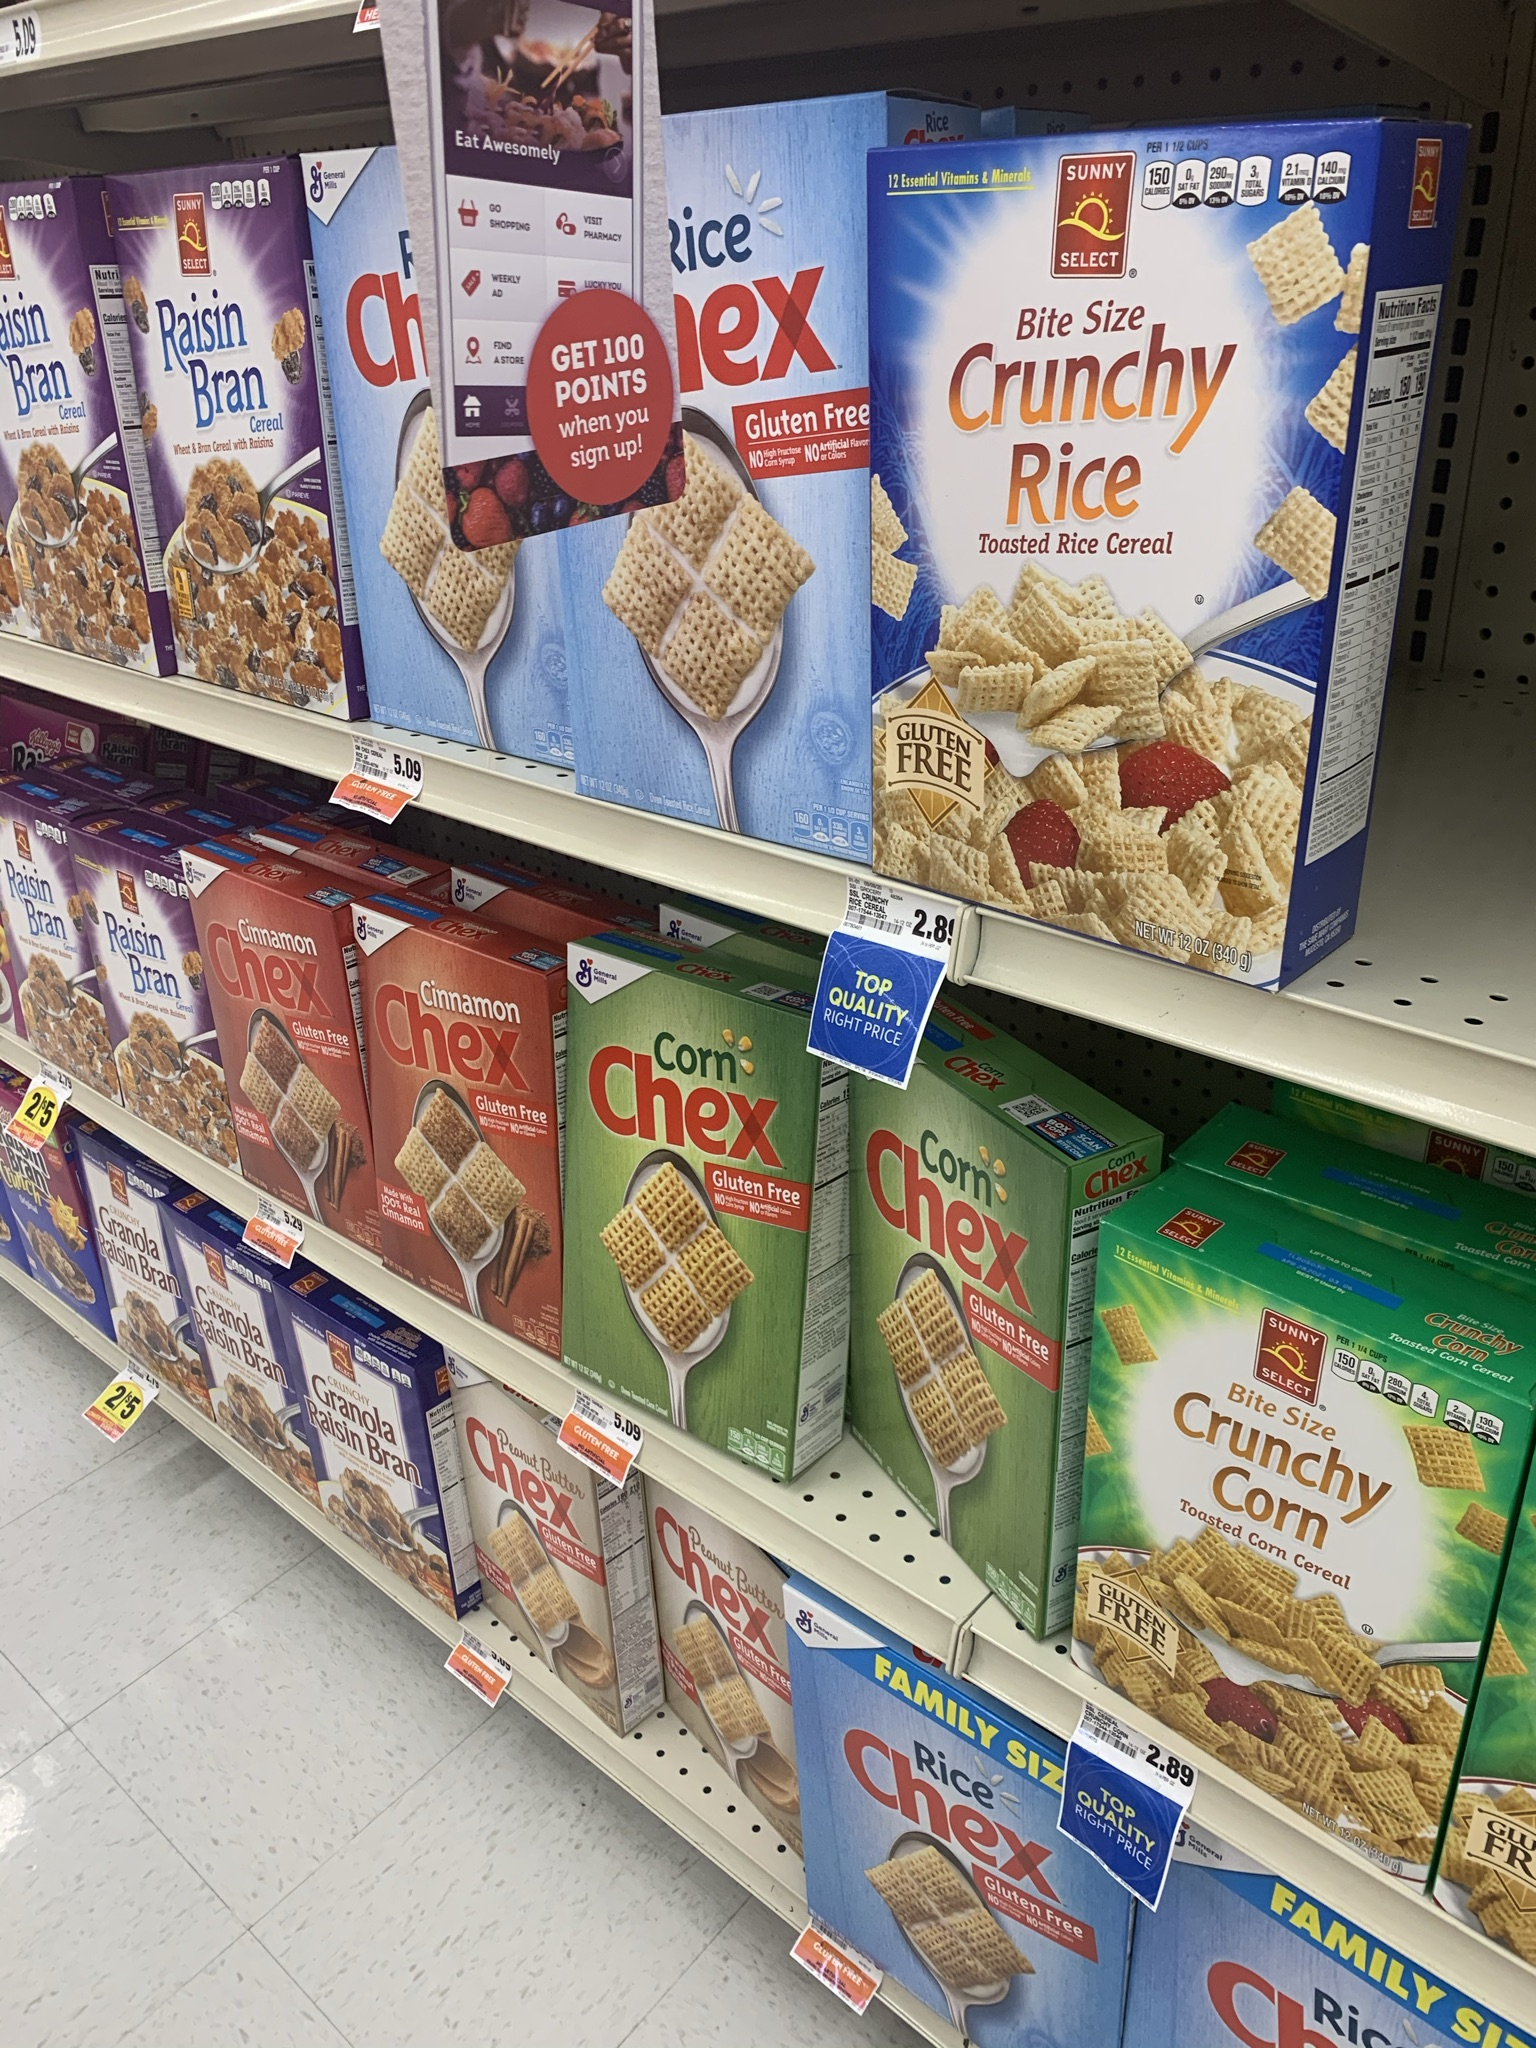box: (907, 164, 1304, 880), (1110, 1285, 1471, 1727), (576, 1014, 808, 1401), (148, 261, 342, 700), (865, 1121, 1054, 1514), (374, 972, 557, 1271), (223, 893, 352, 1184)
